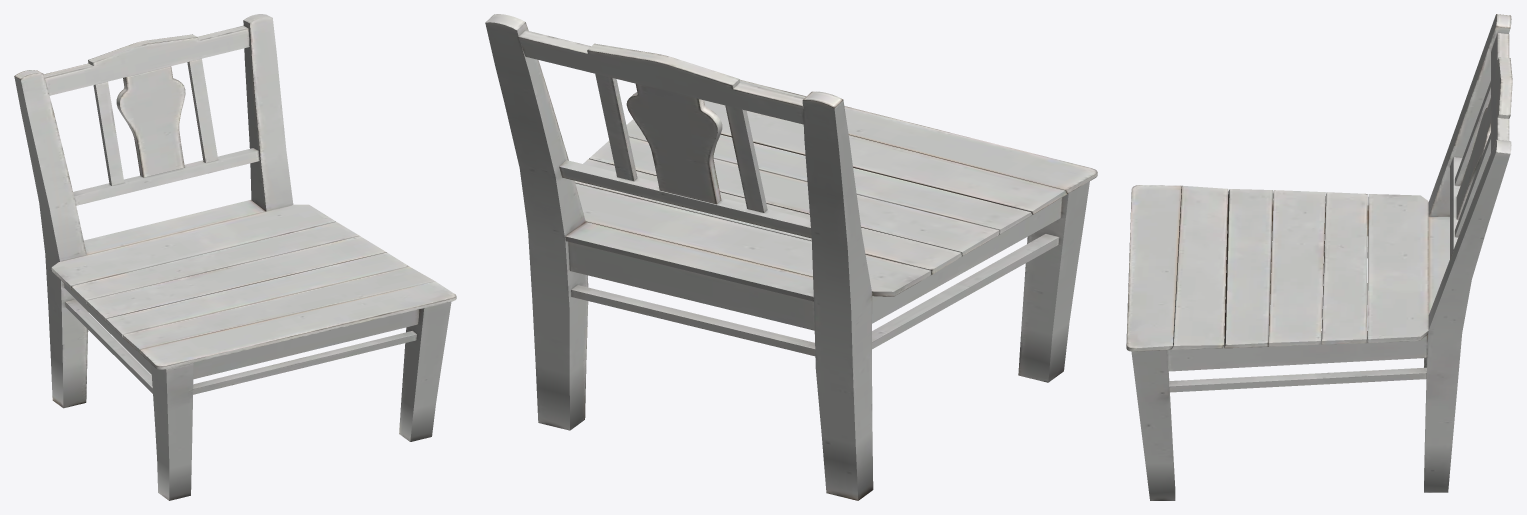
Rendered from ph-painted-wooden-chair-01.glb.
3 renders of one model, left to right at view 1: azimuth 30°, elevation 25°; view 2: azimuth 150°, elevation 25°; view 3: azimuth 270°, elevation 25°, orthographic. The views are drawn at different scales.
Visible parts, largest first — view 1: painted_wooden_chair_01; view 2: painted_wooden_chair_01; view 3: painted_wooden_chair_01.
Part boxes in pixels (left/top/right/bottom): painted_wooden_chair_01: left=14, top=14, right=456, bottom=500; painted_wooden_chair_01: left=485, top=14, right=1097, bottom=500; painted_wooden_chair_01: left=1126, top=14, right=1512, bottom=500.
Size of the model in its own units: 1 by 1 by 1.
1 material, 1 textured.
